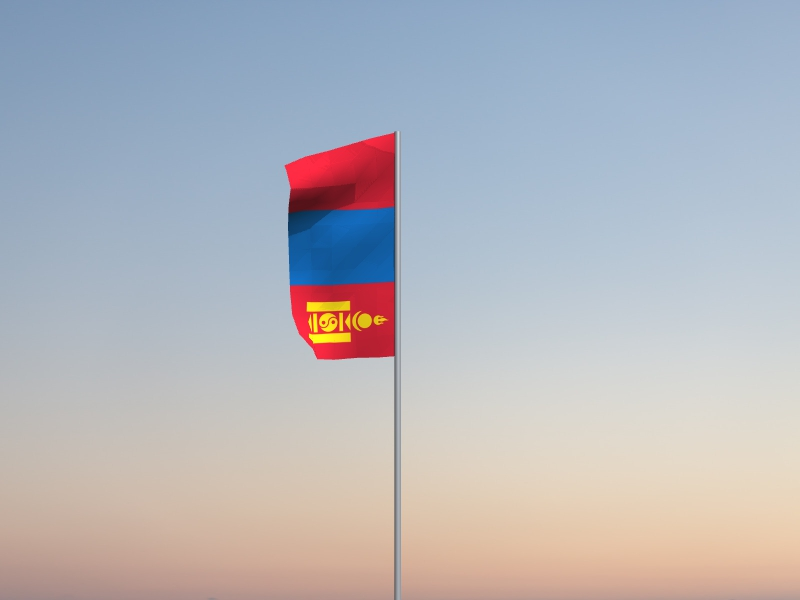mn: (284, 134, 395, 362)
